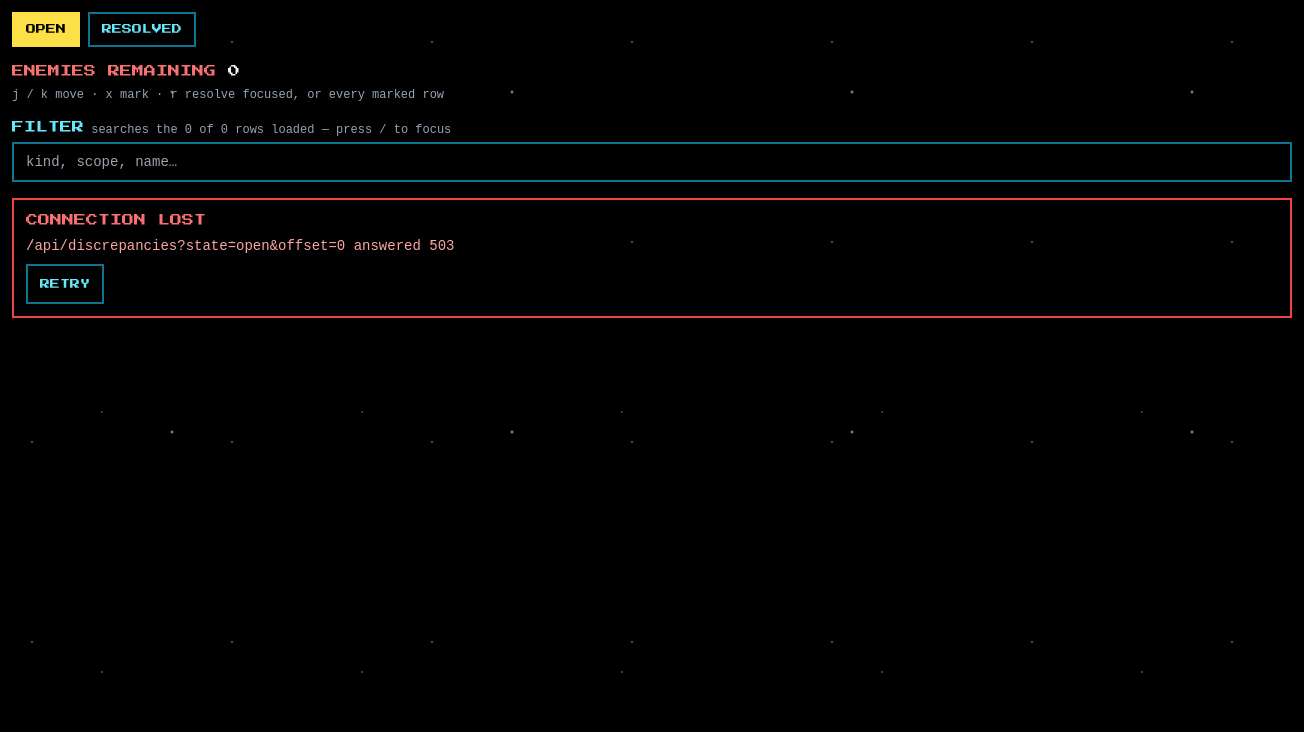
Test: a failed load says so and retry fetches again
The image size is (1304, 732).
Expected: the message shows "503", top-left (26, 238), bottom-right (454, 254)
Click the button "RETRY" at (65, 284), box top-left (26, 264), bottom-right (104, 304)
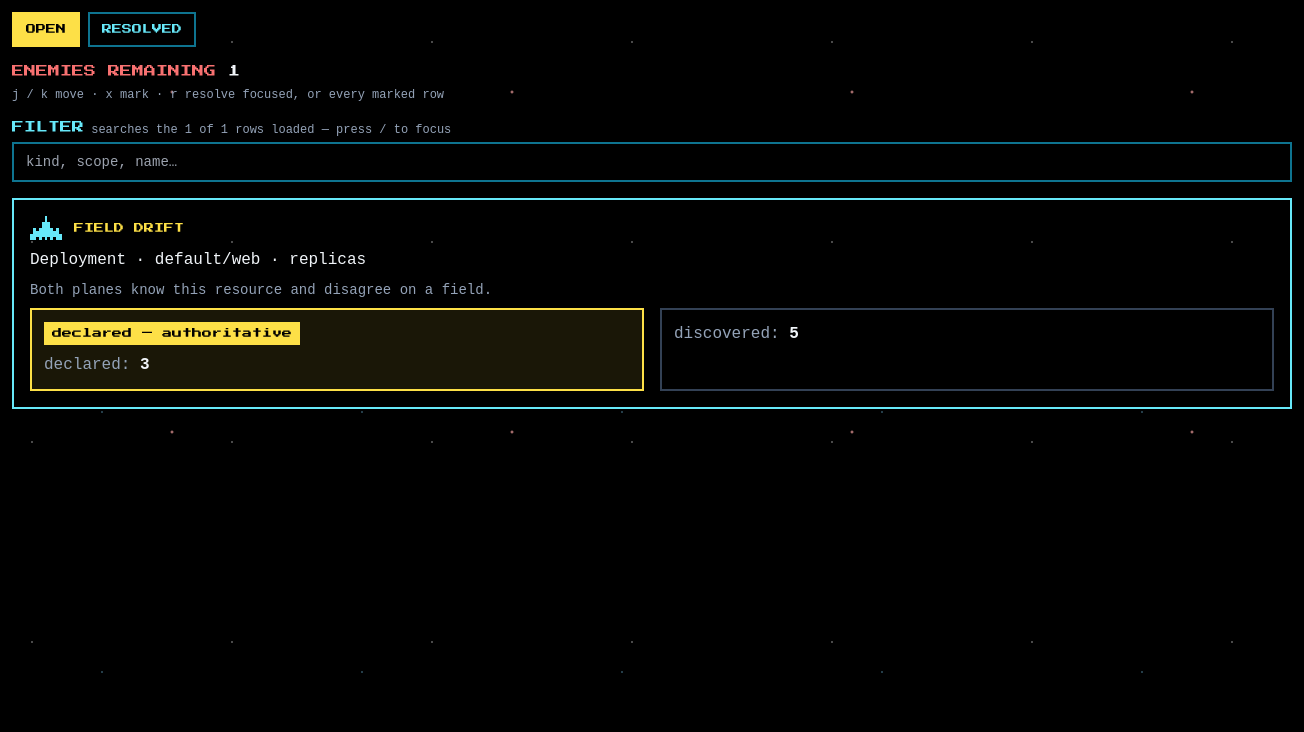
Now the text "replicas" is shown, box top-left (289, 251), bottom-right (366, 269)
